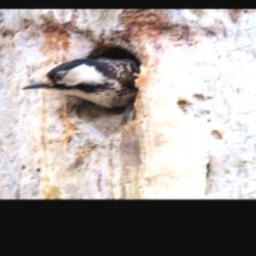Woodpecker: (23, 54, 138, 110)
